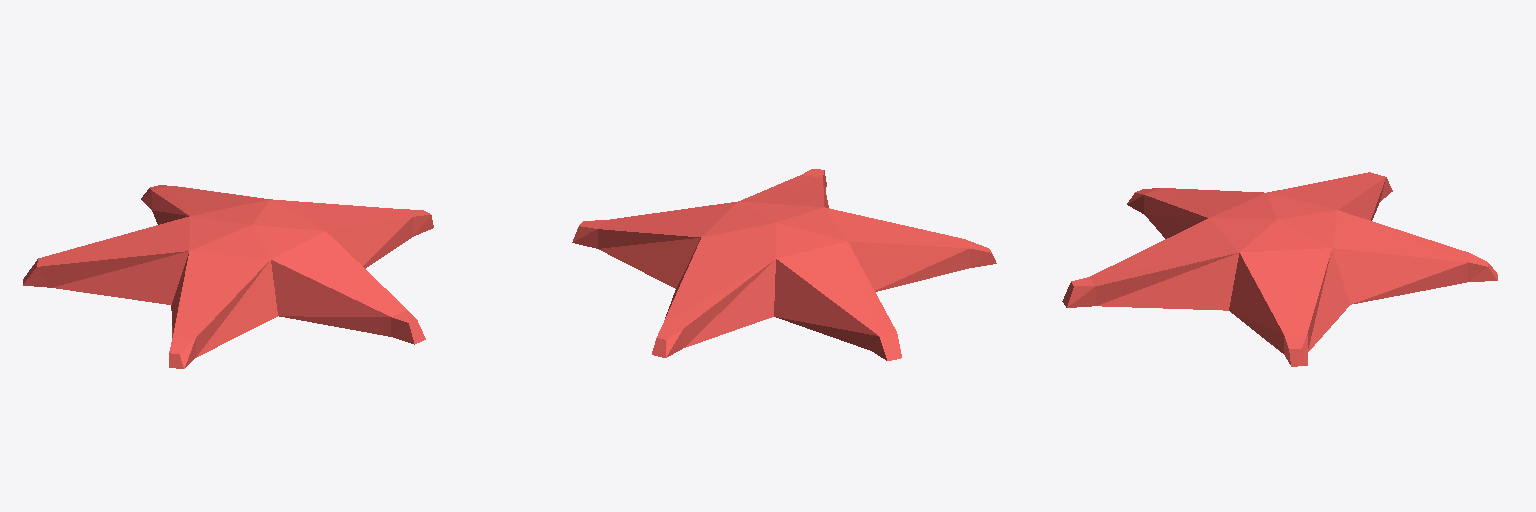
Rendered from star.obj.
3 views of the same model, side by side, from view 1: azimuth 30°, elevation 25°; view 2: azimuth 150°, elevation 25°; view 3: azimuth 270°, elevation 25° (orthographic).
Bounding box in the file's own units: 4.84 × 0.8445 × 4.97.